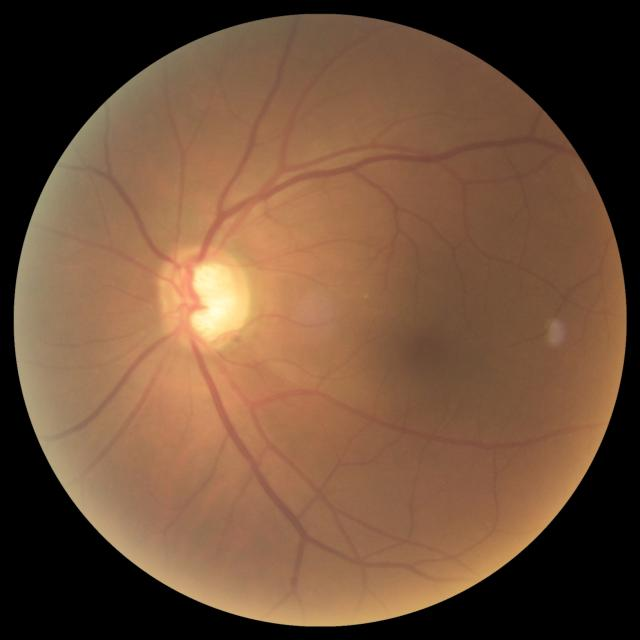OC: (176, 262, 239, 338)
OD: (153, 242, 250, 352)
